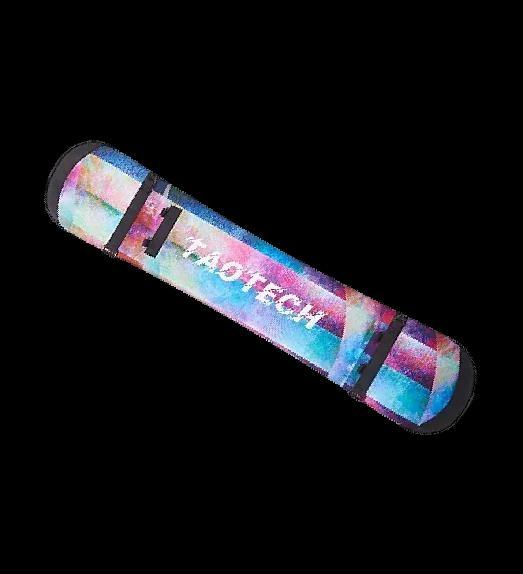Snowboard: (43, 138, 476, 436)
